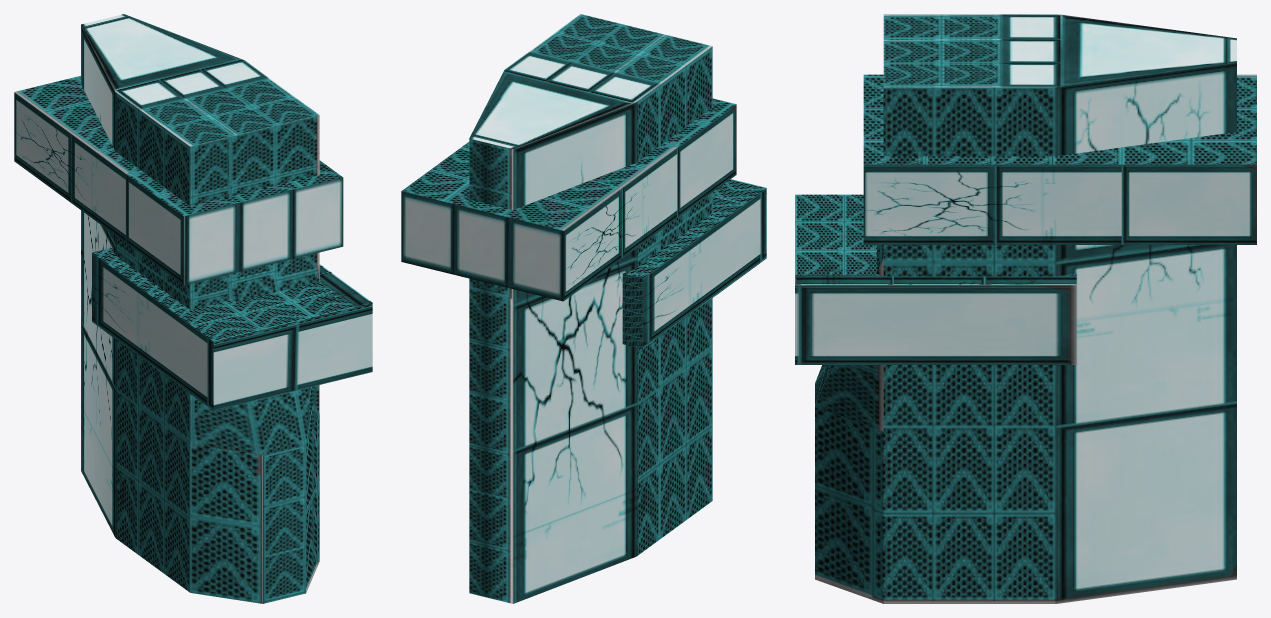
File: building.fbx
3 renders of one model, left to right at view 1: azimuth 30°, elevation 25°; view 2: azimuth 150°, elevation 25°; view 3: azimuth 270°, elevation 25°, orthographic. The views are drawn at different scales.
Visible parts, largest first — view 1: pCube10, pCube13, pCube12; view 2: pCube10, pCube13, pCube12; view 3: pCube10, pCube13, pCube12.
Boxes of the visible parts, bbox=[...] form: pCube10: bbox=[81, 14, 319, 603]; pCube13: bbox=[14, 76, 343, 285]; pCube12: bbox=[92, 248, 372, 410]; pCube10: bbox=[469, 14, 712, 603]; pCube13: bbox=[401, 98, 736, 301]; pCube12: bbox=[622, 179, 766, 348]; pCube10: bbox=[815, 14, 1236, 603]; pCube13: bbox=[863, 74, 1256, 244]; pCube12: bbox=[795, 194, 1076, 364].
Bounding box in the file's own units: 0.0629 × 0.1683 × 0.1362.
Materials: 1 (1 with a texture image).
